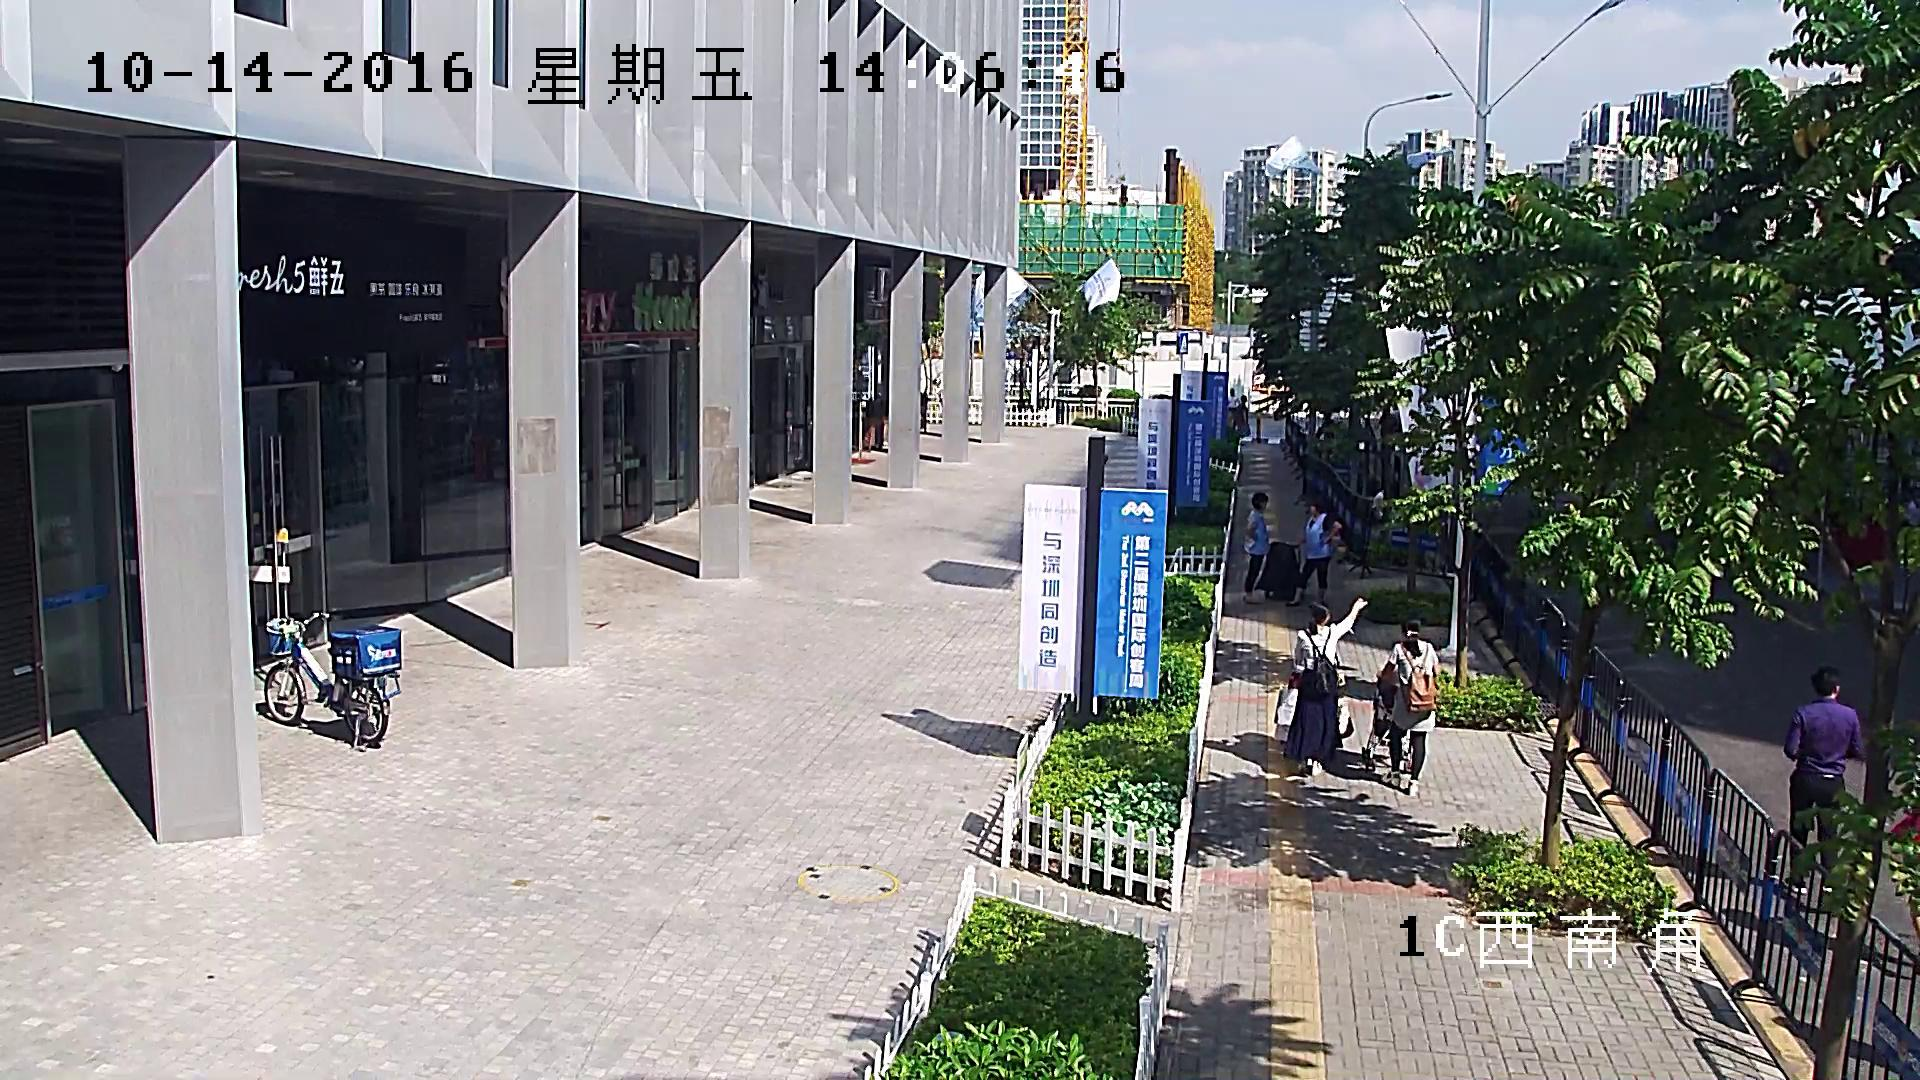person: (1782, 664, 1865, 896), (1273, 597, 1368, 776), (1283, 597, 1367, 776), (1362, 617, 1440, 795), (1375, 617, 1439, 795), (1254, 499, 1342, 605), (1286, 499, 1342, 605), (1243, 491, 1270, 604), (1227, 388, 1238, 431)
